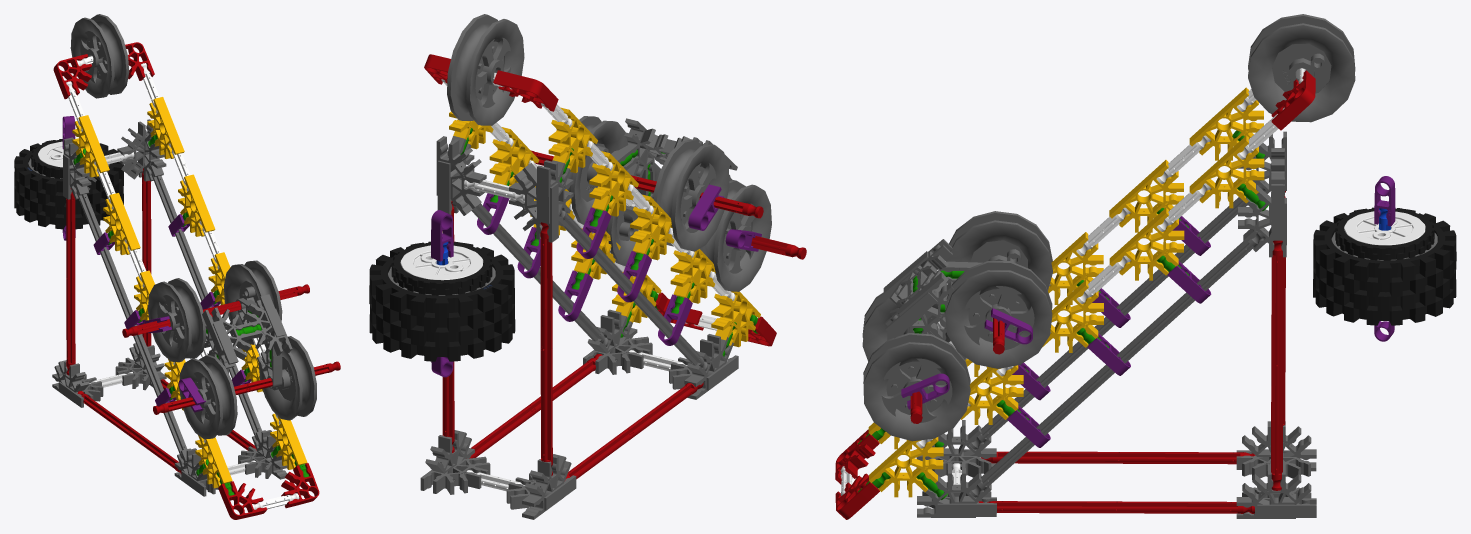
3 views of the same model, side by side, from view 1: azimuth 30°, elevation 25°; view 2: azimuth 150°, elevation 25°; view 3: azimuth 270°, elevation 25° (orthographic). The views are drawn at different scales.
Parts seen in each view (by area): view 1: P2_L09.001; view 2: P2_L09.001; view 3: P2_L09.001.
Part boxes in pixels (<box>): P2_L09.001: <box>14,14,340,519</box>; P2_L09.001: <box>369,14,806,519</box>; P2_L09.001: <box>835,14,1456,519</box>.
Size of the model in its own units: 1.37 by 2.58 by 3.06.
